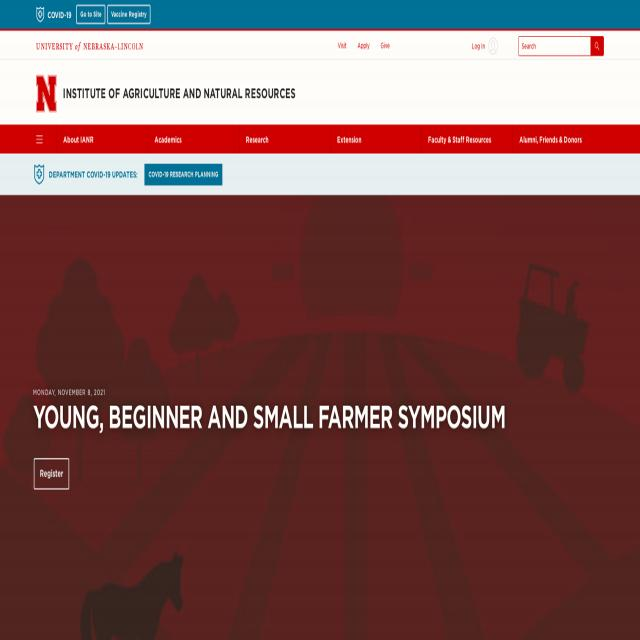button: (56, 125, 148, 154), (330, 125, 422, 154), (148, 125, 239, 154), (239, 125, 330, 154), (422, 125, 513, 154), (514, 124, 596, 153), (144, 162, 223, 186), (34, 469, 78, 500), (35, 4, 75, 26), (108, 5, 150, 24), (36, 75, 57, 112), (76, 5, 105, 24), (470, 37, 498, 54), (591, 36, 604, 56), (34, 163, 45, 185), (36, 133, 43, 145)
field: (519, 36, 590, 57)
